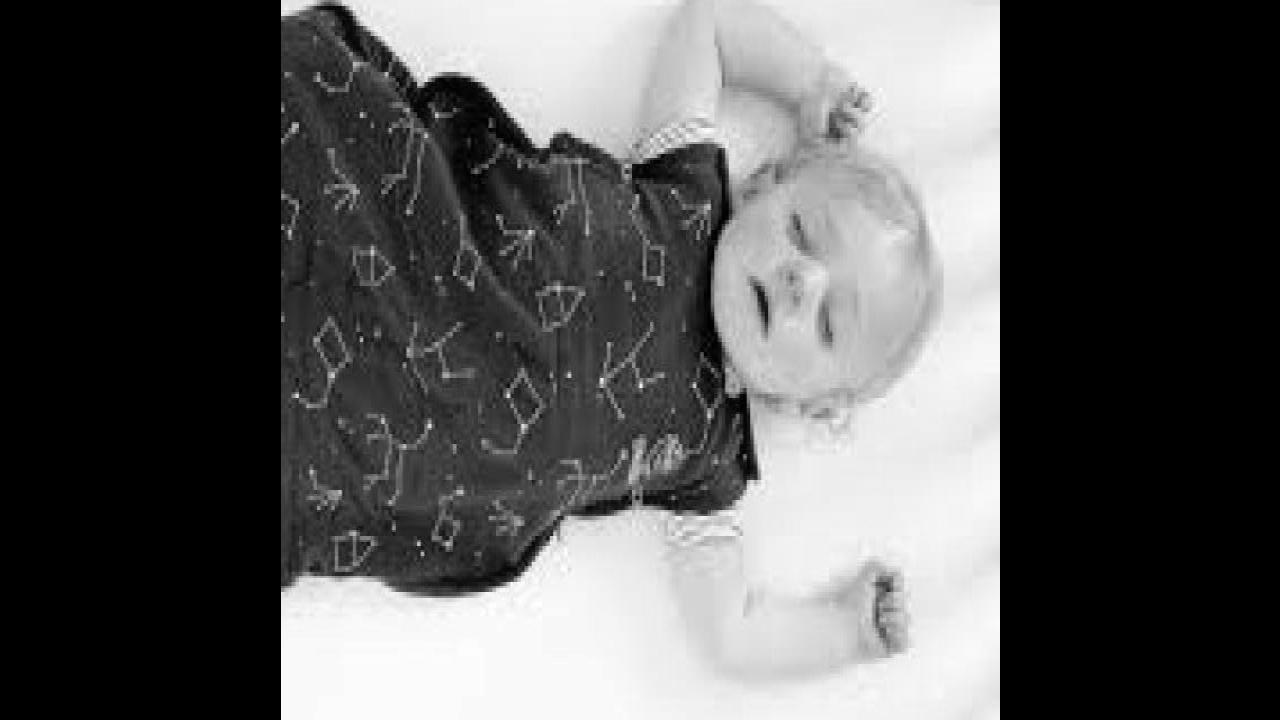hand: (789, 65, 883, 155), (844, 560, 916, 673)
